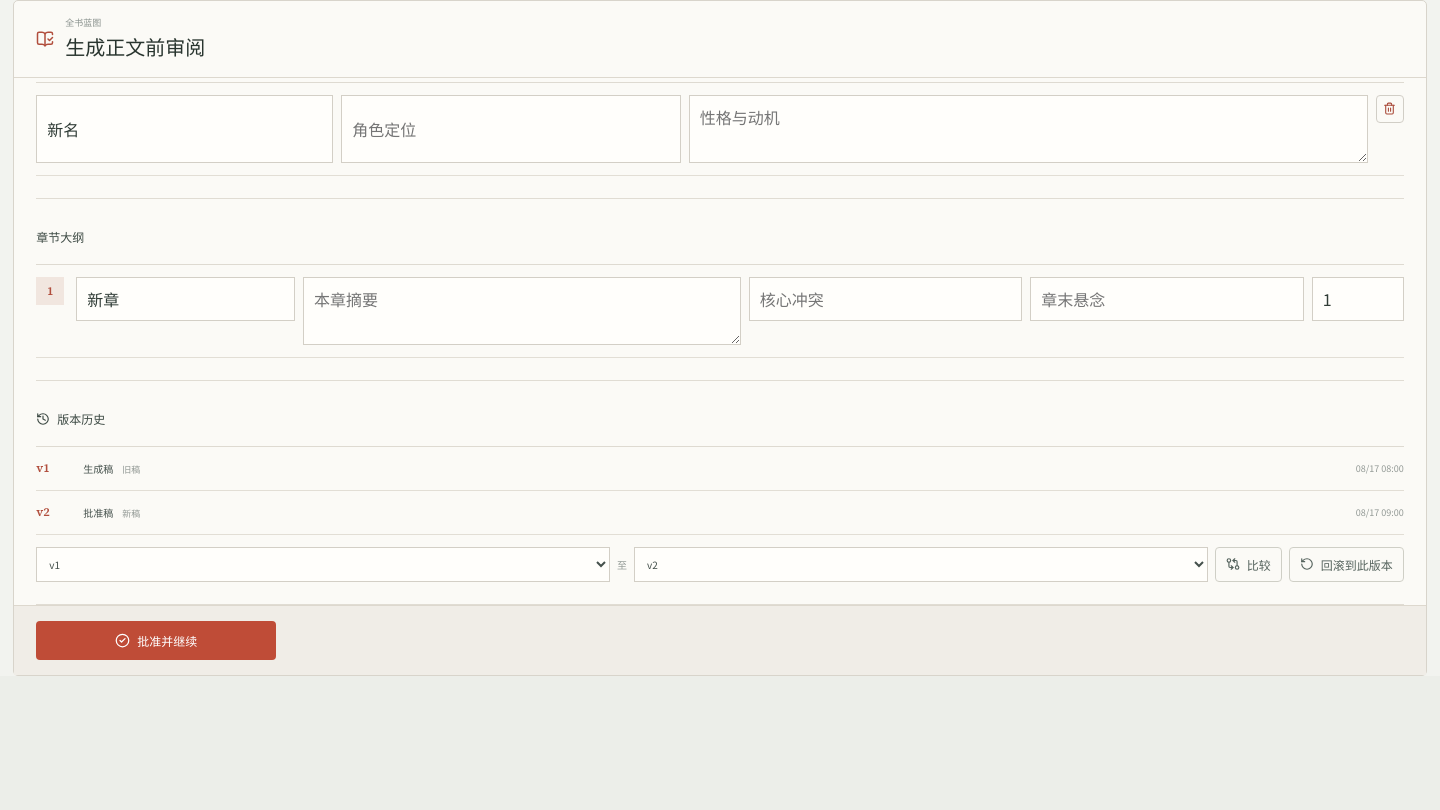
Test: PlanningReviewPanel › compares versions and loads a historical blueprint into the editor
This screenshot has width=1440, height=810.
(page scrolled)
Click the button "比较": (1248, 564) [1215,547,1282,582]
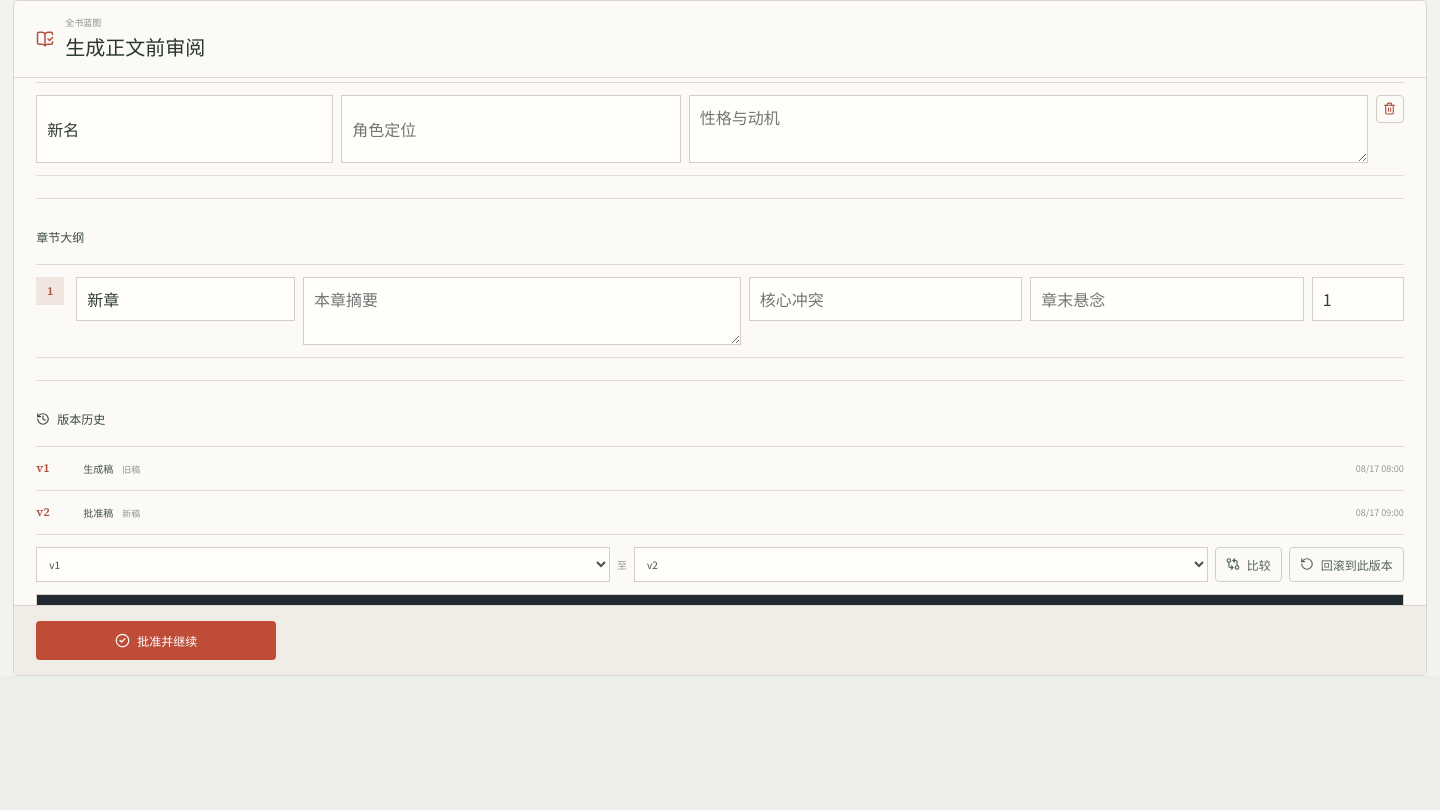
Select "v1" in the dropdown named "目标规划版本": (921, 564) [634,547,1208,582]
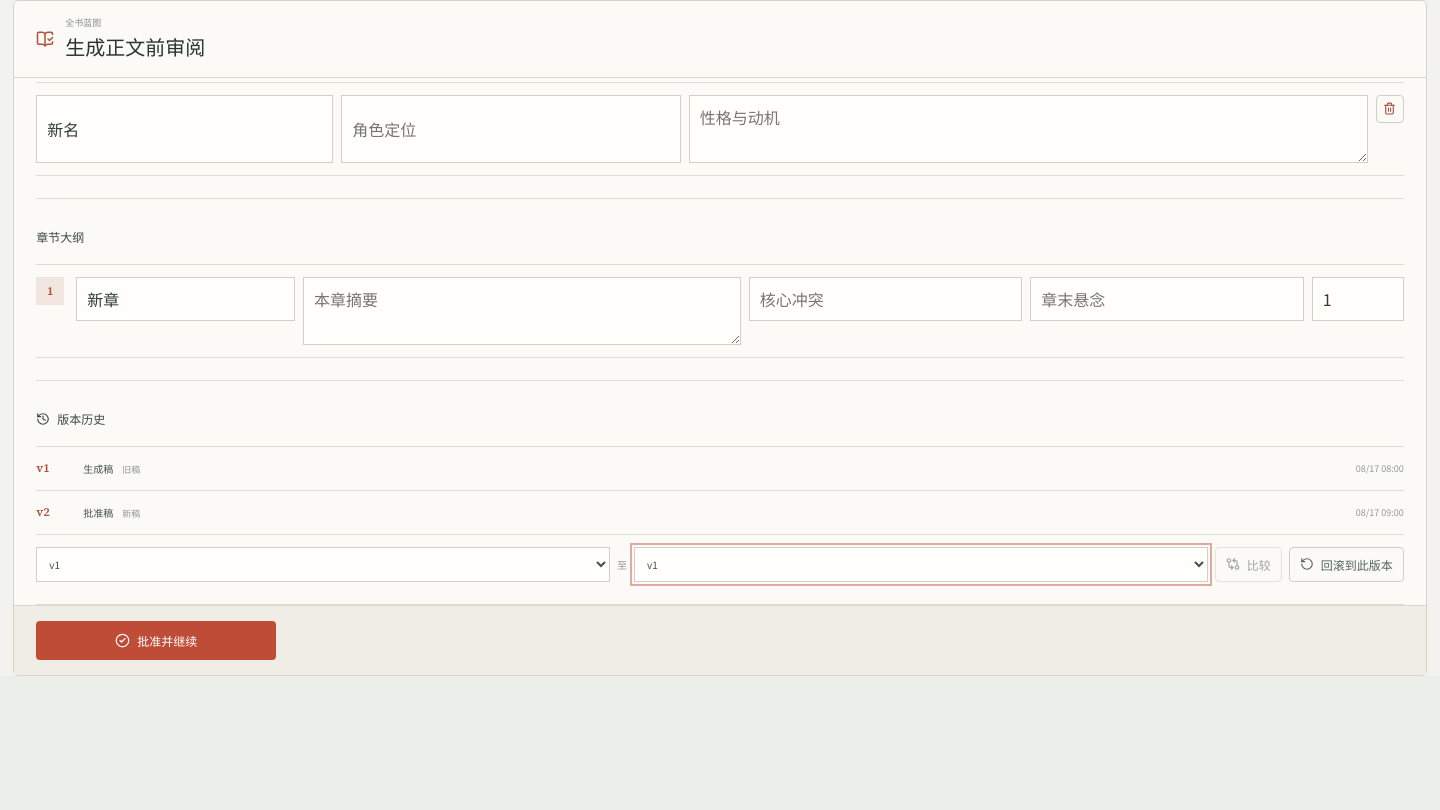
Click the button "回滚到此版本": (1346, 564) [1289,547,1404,582]
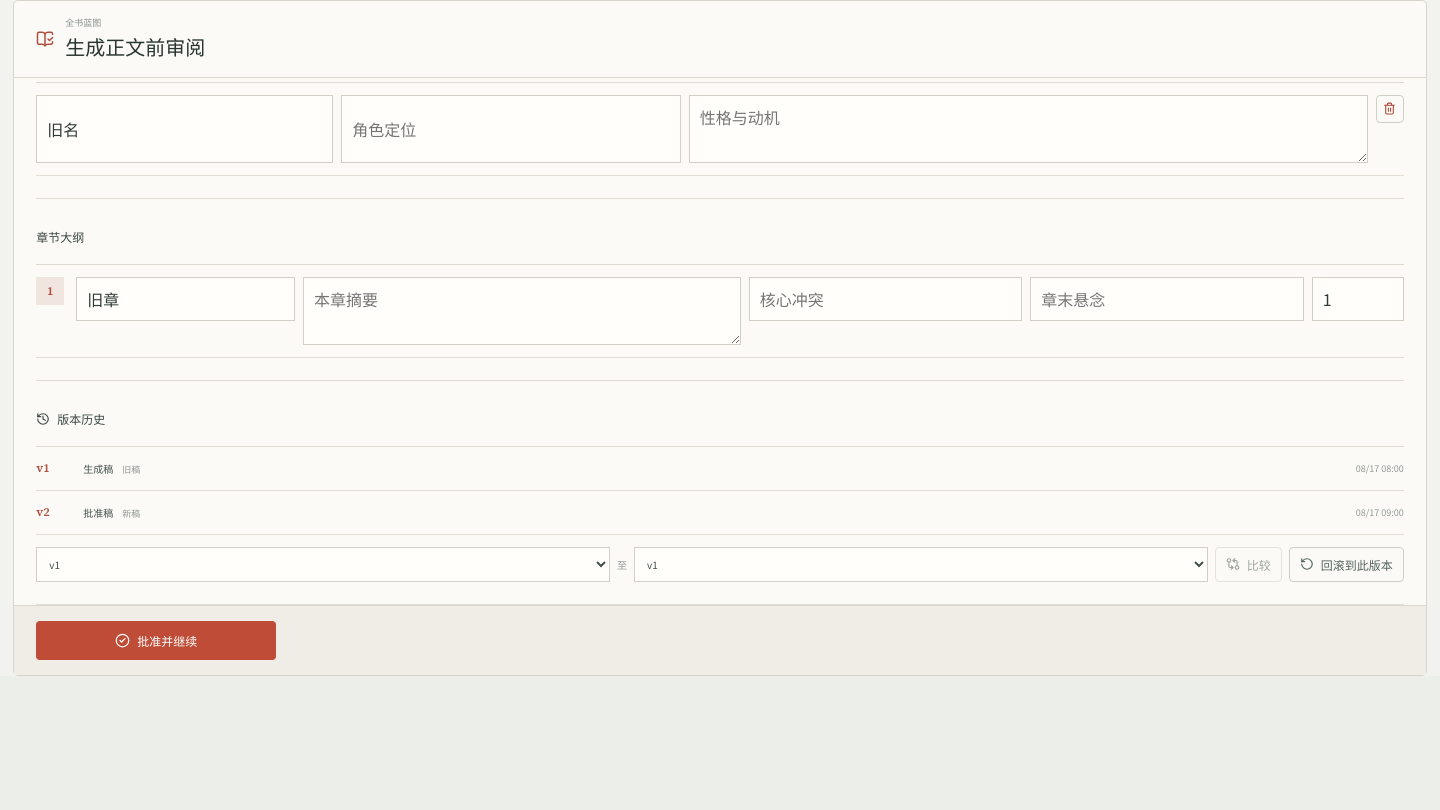
Result: the field named "角色 1 姓名" holds "旧名" at [36,95,333,163]
